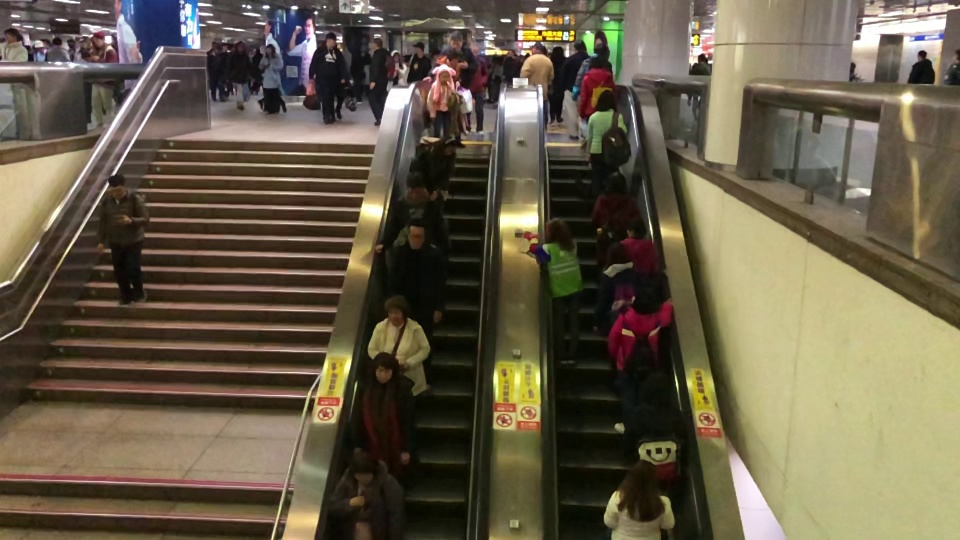person_head: (641, 371, 676, 405), (623, 459, 657, 491), (349, 452, 378, 483), (371, 352, 398, 383), (632, 284, 661, 312), (382, 295, 408, 325), (544, 216, 569, 245), (404, 171, 425, 203), (406, 218, 426, 251), (605, 243, 630, 268), (603, 171, 628, 193), (107, 173, 127, 197), (595, 89, 616, 110), (626, 217, 646, 238), (449, 31, 464, 50), (593, 42, 612, 57), (419, 148, 433, 166), (4, 26, 19, 42), (590, 57, 609, 69), (572, 38, 586, 53), (92, 32, 105, 47), (369, 37, 384, 49), (325, 32, 337, 46), (531, 44, 547, 54), (413, 41, 425, 54), (438, 70, 450, 83), (446, 52, 457, 66), (264, 44, 276, 56), (552, 45, 564, 57), (51, 36, 63, 47), (697, 53, 708, 63), (471, 41, 480, 53), (917, 48, 926, 59), (849, 61, 857, 72), (236, 40, 244, 50), (394, 51, 399, 61)
person_vbox: (605, 283, 674, 432), (523, 215, 585, 369), (352, 352, 423, 468), (95, 173, 150, 308), (625, 369, 690, 479), (328, 451, 408, 539), (388, 218, 449, 332), (365, 295, 432, 397), (596, 242, 669, 334), (375, 171, 452, 254), (603, 459, 675, 540), (422, 51, 469, 148), (590, 171, 643, 246), (585, 90, 633, 171), (82, 32, 119, 128), (308, 32, 346, 123), (408, 135, 456, 201), (519, 44, 555, 130), (561, 38, 586, 141), (578, 57, 618, 120), (367, 36, 395, 125), (570, 41, 612, 100), (466, 40, 490, 135), (619, 217, 657, 271), (224, 40, 252, 109), (258, 44, 284, 113), (427, 70, 452, 134), (448, 31, 477, 85), (548, 44, 565, 125), (692, 52, 711, 119), (406, 41, 431, 84), (0, 26, 28, 62), (907, 49, 935, 84), (387, 50, 406, 90), (45, 36, 70, 61), (849, 62, 862, 82)
